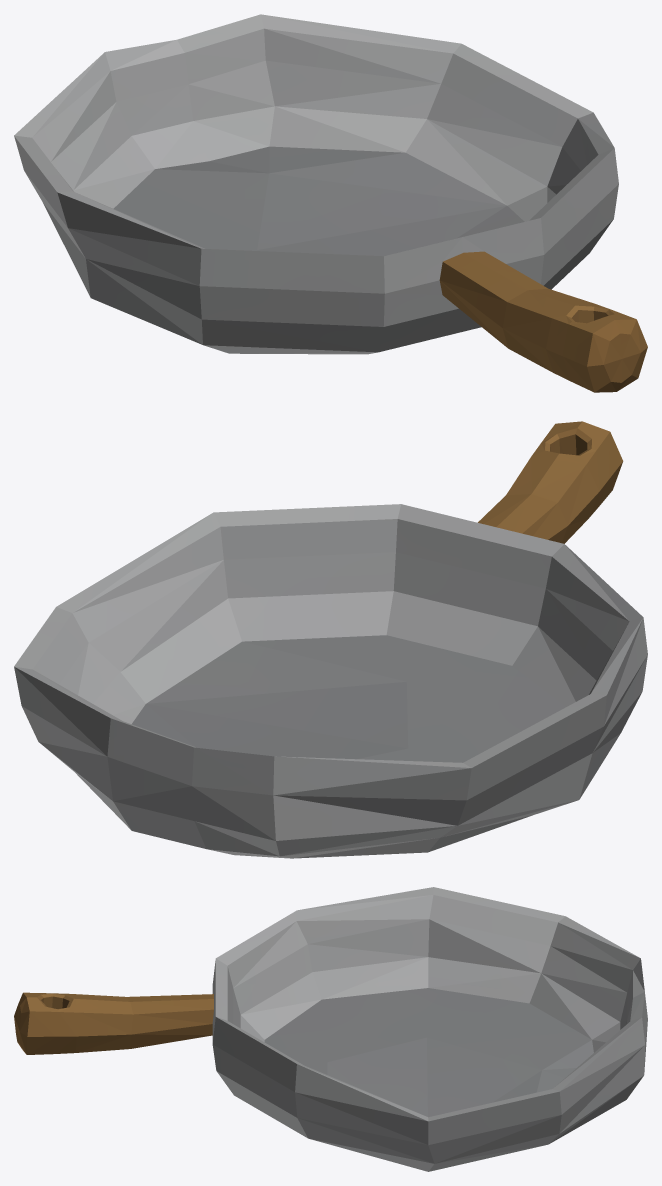
The model's file is pan_bent.obj.
3 views of the same model, one above another, from view 1: azimuth 30°, elevation 25°; view 2: azimuth 150°, elevation 25°; view 3: azimuth 270°, elevation 25° (orthographic). The views are drawn at different scales.
Parts seen in each view (by area): view 1: pan_bent_Material; view 2: pan_bent_Material; view 3: pan_bent_Material.
Part boxes in pixels (x1,y1,x2,y2): pan_bent_Material: (14,14,647,392); pan_bent_Material: (14,421,647,858); pan_bent_Material: (14,887,647,1171).
Size of the model in its own units: 0.4482 by 0.1184 by 0.606.
